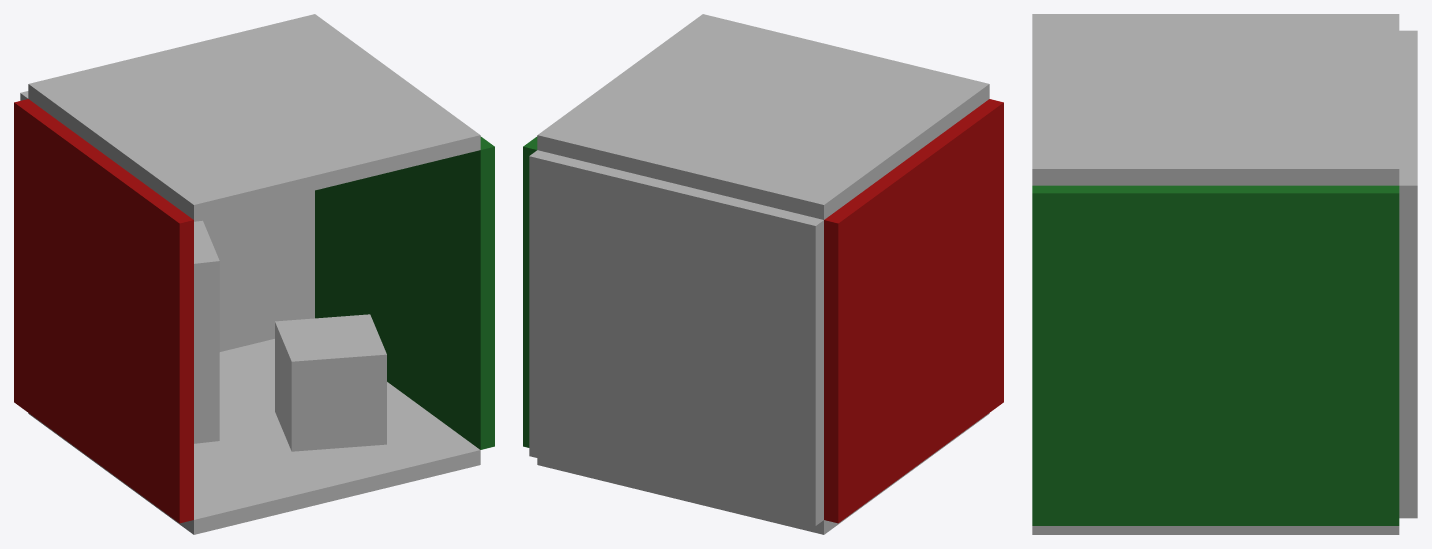
File: CornellBox.obj
3 renders of one model, left to right at view 1: azimuth 30°, elevation 25°; view 2: azimuth 150°, elevation 25°; view 3: azimuth 270°, elevation 25°, orthographic. The views are drawn at different scales.
Size of the model in its own units: 2.2 by 2.2 by 2.1.
